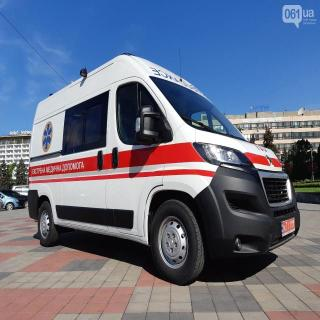Ambulance: (13, 46, 305, 293)
